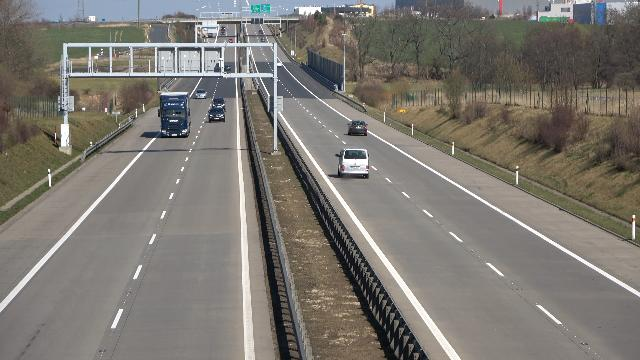car: (336, 147, 372, 180), (347, 119, 370, 137), (205, 107, 226, 124), (209, 96, 229, 110), (195, 88, 208, 101), (224, 64, 231, 70), (276, 62, 283, 68), (228, 38, 234, 43), (260, 38, 265, 43)
truck: (159, 91, 193, 137)
